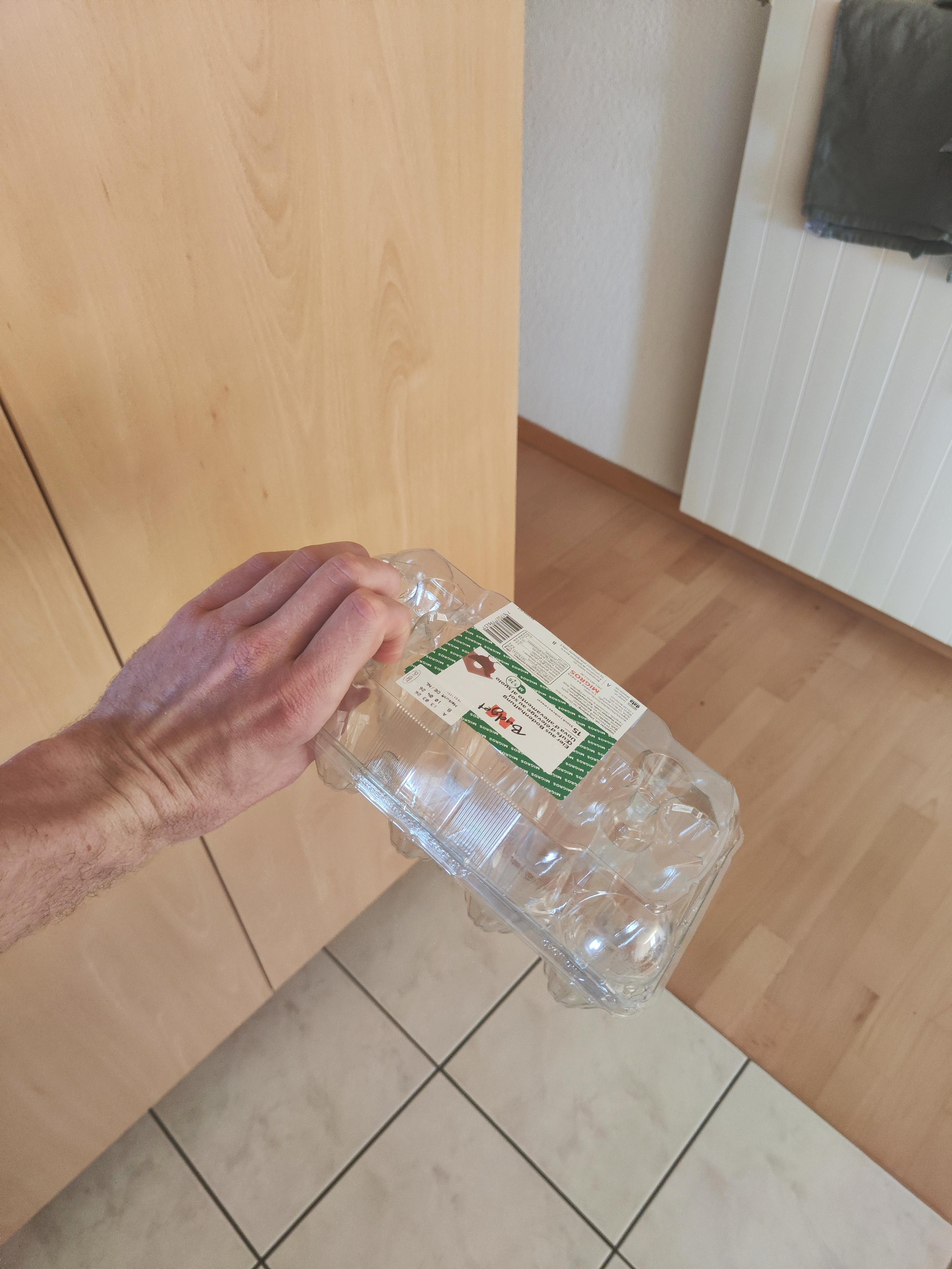Plastic: (311, 548, 748, 1016)
